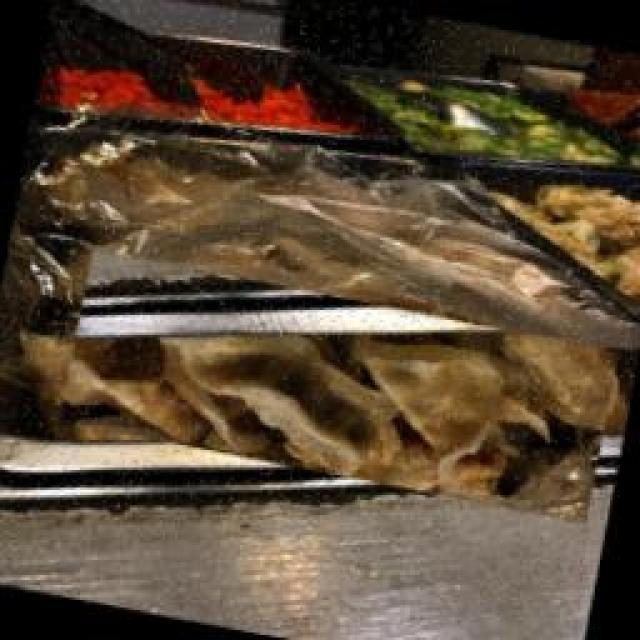fried_dumplings: (58, 248, 623, 523)
